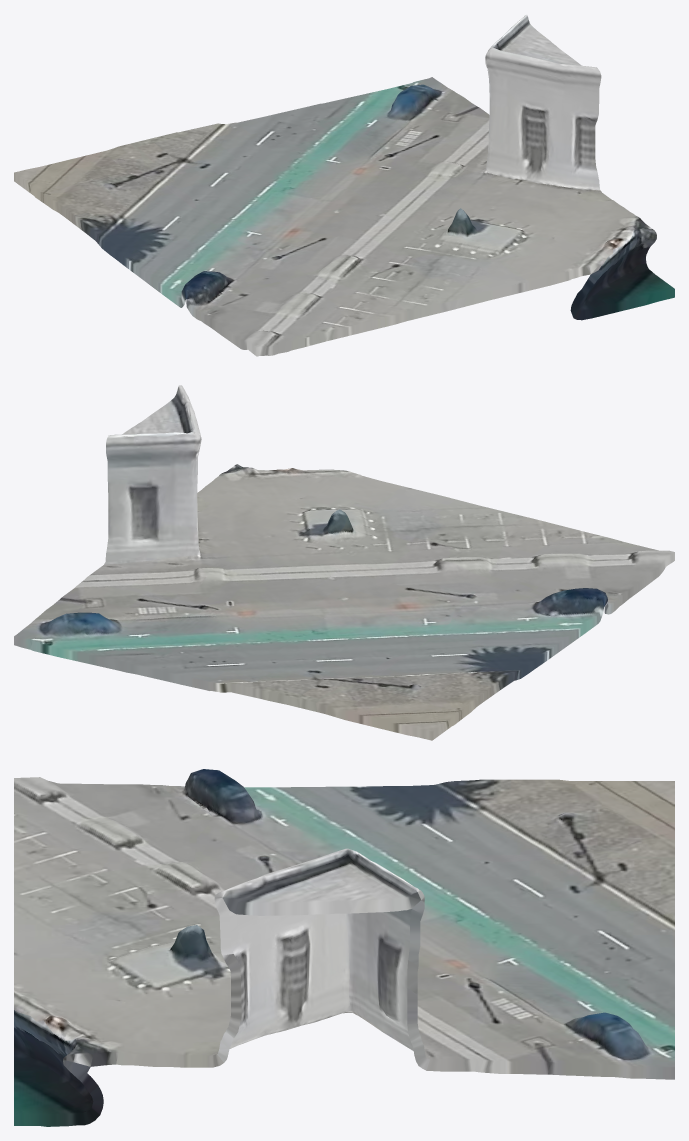
Rendered from z20-167772-405196-h0-yup-uvflip-v3-world.glb.
3 views of the same model, one above another, from view 1: azimuth 30°, elevation 25°; view 2: azimuth 150°, elevation 25°; view 3: azimuth 270°, elevation 25° (orthographic). The views are drawn at different scales.
Size of the model in its own units: 30.16 by 12.08 by 30.32.
Materials: 1 (1 with a texture image).
